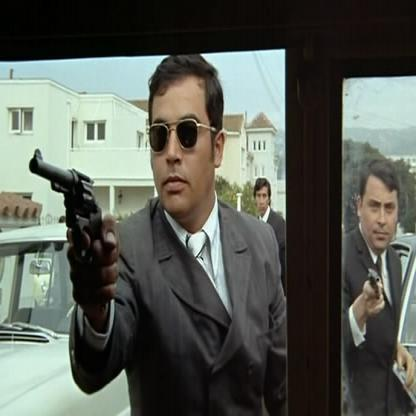gun: (26, 136, 107, 298), (364, 250, 385, 315)
